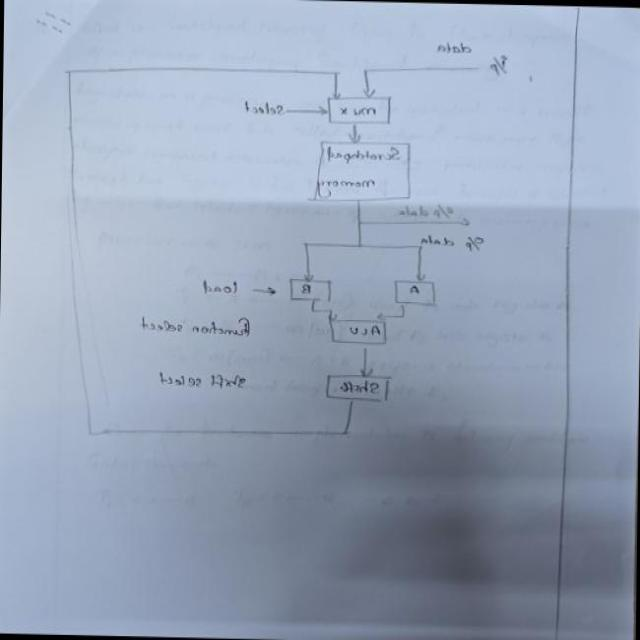Figure Detection - v3 Dataset Version2: (54, 20, 542, 451)
